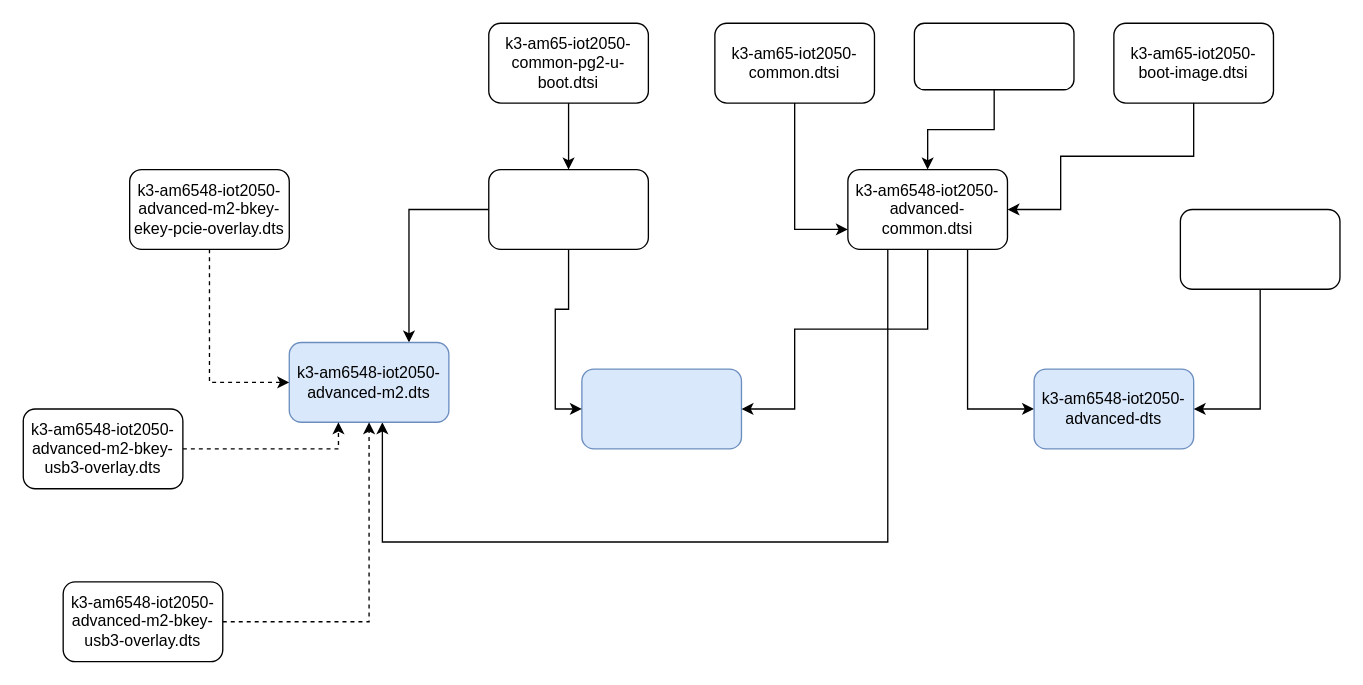
This 1363x685 diagram has some shape labels left out. The centre of each missing label's shape, as x and y in pixels:
k3-am65-iot2050-common-pg1.dtsi: (x=1259, y=248)
k3-am65-iot2050-common-pg2.dtsi: (x=567, y=208)
k3-am65-iot2050-common-u-boot.dtsi: (x=993, y=56)
k3-am6548-iot2050-advanced-pg2.dts: (x=661, y=408)
